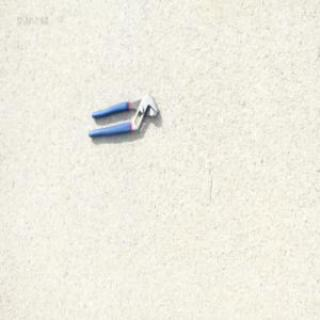Pliertrack_idkeyframe: (87, 92, 160, 139)
